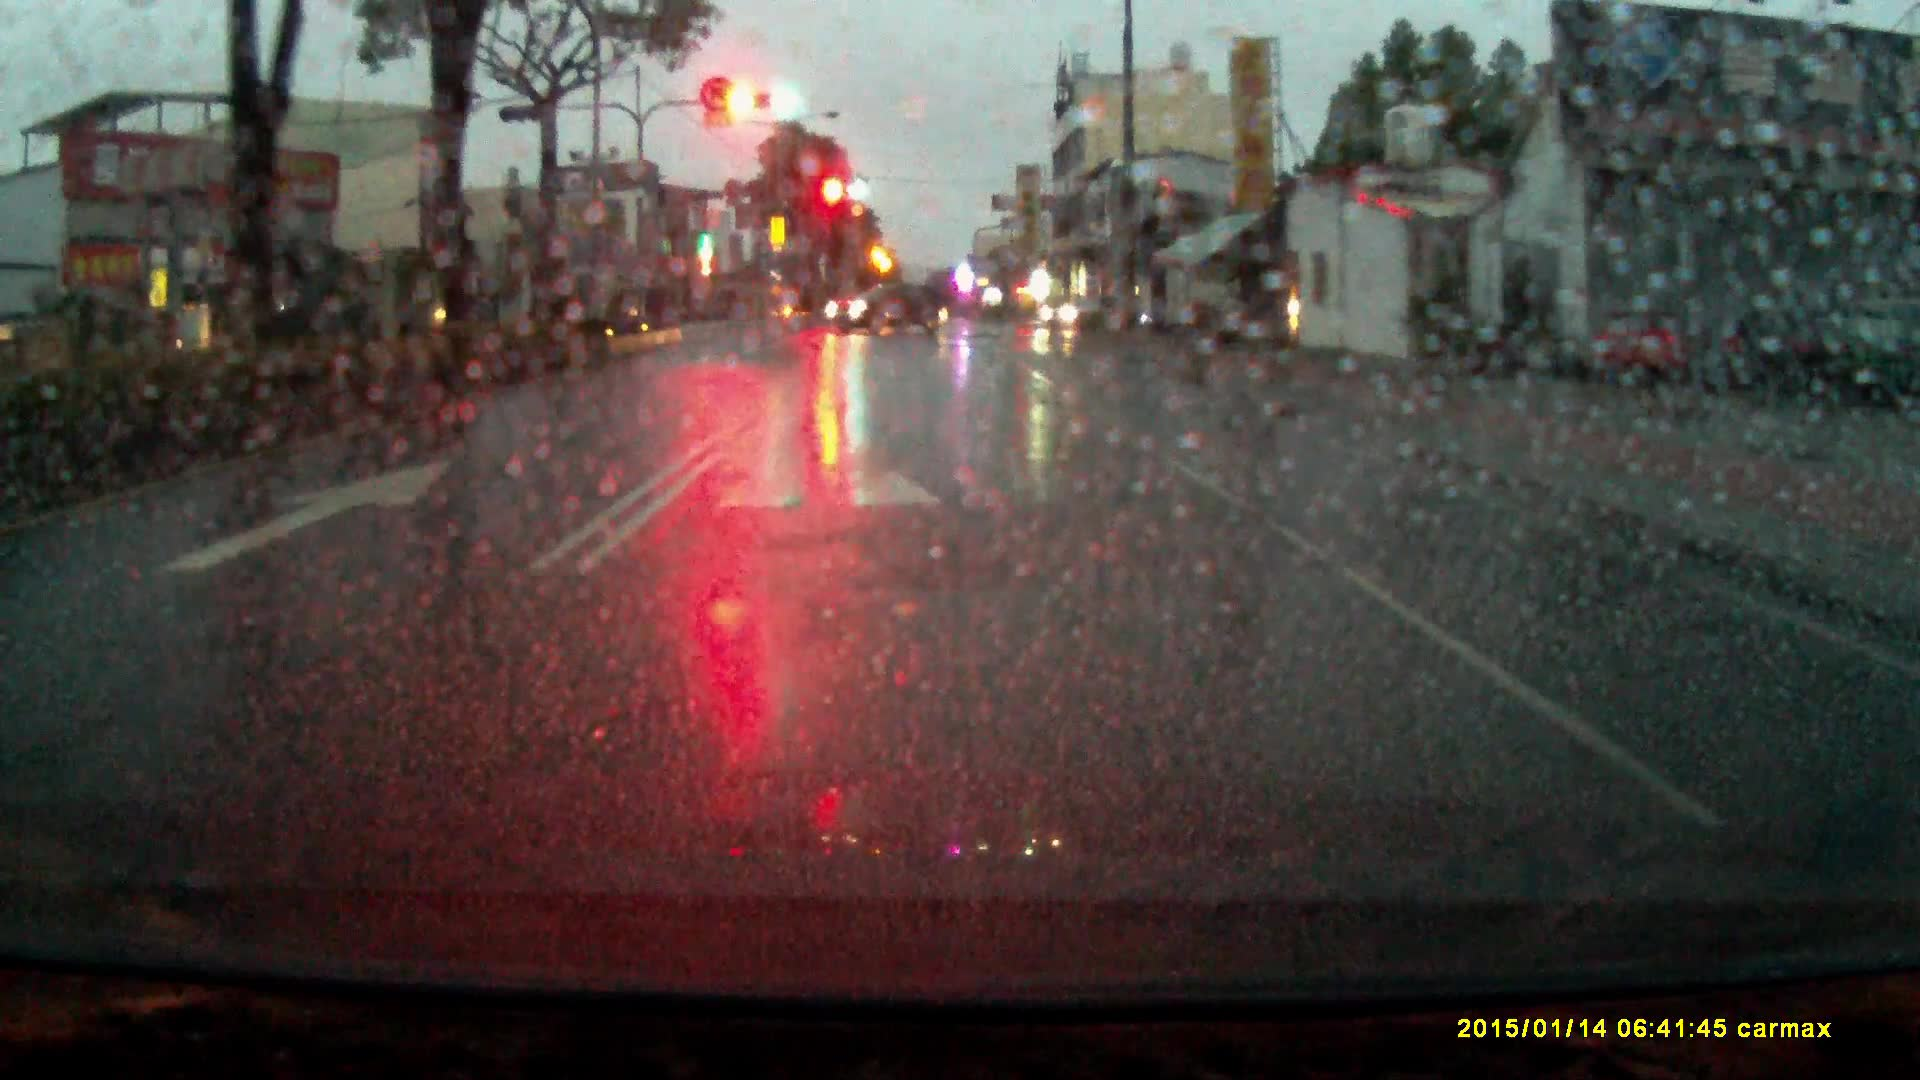vehicle: (823, 281, 952, 342), (1040, 291, 1137, 342)
